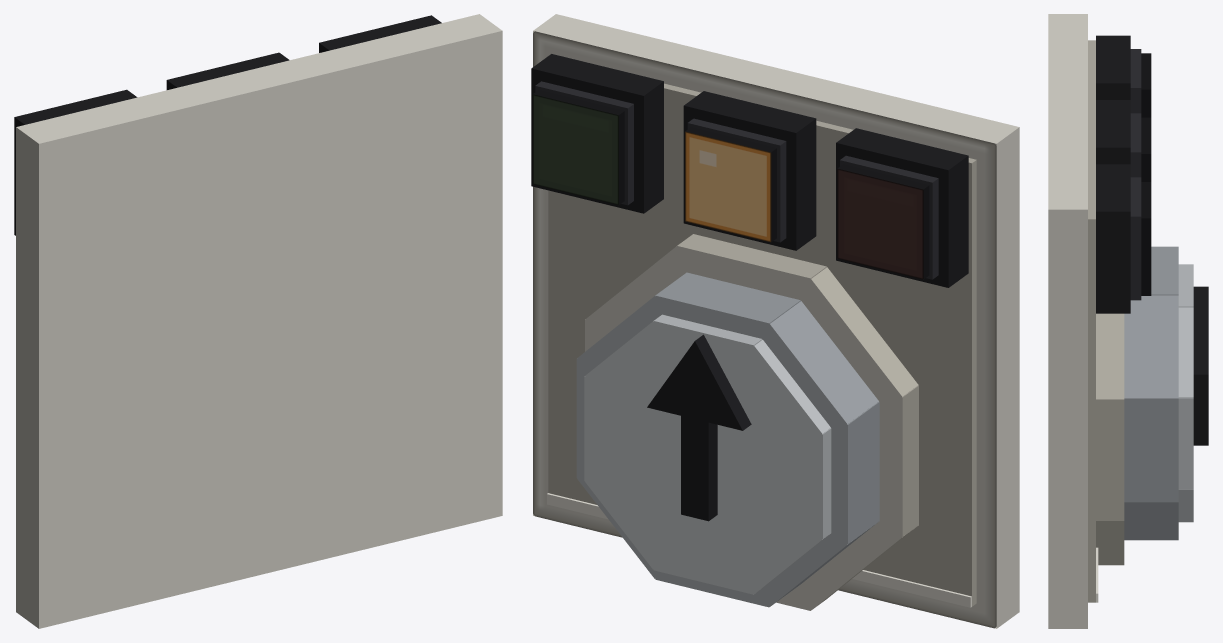
Rendered from knob_switch3_orange.obj.
3 renders of one model, left to right at view 1: azimuth 30°, elevation 25°; view 2: azimuth 150°, elevation 25°; view 3: azimuth 270°, elevation 25°, orthographic. The views are drawn at different scales.
Visible parts, largest first — view 1: Panel, LampRed, LampOrange, LampGreen; view 2: Panel, Knob, LampOrange, LampGreen, LampRed; view 3: Panel, Knob, LampGreen, LampRed, LampOrange.
Boxes of the visible parts, x1=… form: Panel: x1=16, y1=14, x2=502, y2=628; LampRed: x1=14, y1=89, x2=137, y2=235; LampOrange: x1=166, y1=52, x2=289, y2=89; LampGreen: x1=319, y1=15, x2=441, y2=52; Panel: x1=533, y1=14, x2=1019, y2=628; Knob: x1=576, y1=234, x2=918, y2=610; LampOrange: x1=683, y1=91, x2=816, y2=250; LampGreen: x1=531, y1=54, x2=663, y2=213; LampRed: x1=836, y1=128, x2=968, y2=287; Panel: x1=1048, y1=14, x2=1098, y2=628; Knob: x1=1096, y1=246, x2=1208, y2=565; LampGreen: x1=1096, y1=164, x2=1151, y2=313; LampRed: x1=1096, y1=35, x2=1151, y2=117; LampOrange: x1=1096, y1=100, x2=1151, y2=181.
Size of the model in its own units: 0.875 by 0.8875 by 0.3038.
1 material, 1 textured.
